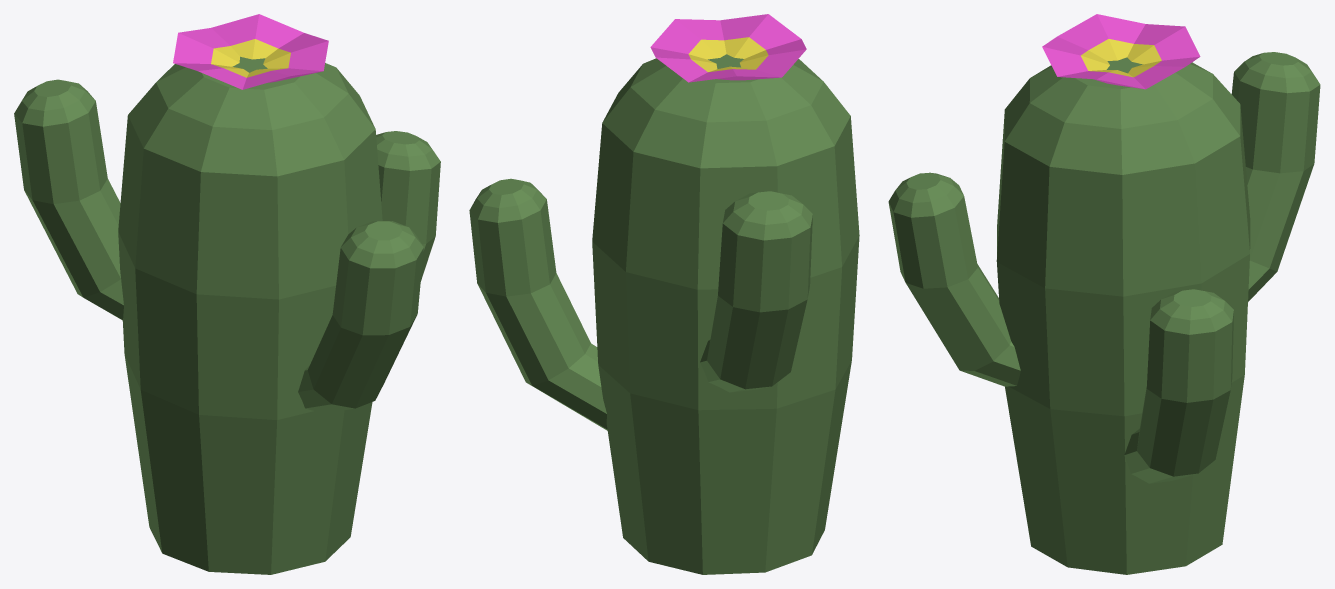
The model's file is cactus.fbx.
3 renders of one model, left to right at view 1: azimuth 30°, elevation 25°; view 2: azimuth 150°, elevation 25°; view 3: azimuth 270°, elevation 25°, orthographic.
Visible parts, largest first — view 1: Cactus; view 2: Cactus; view 3: Cactus.
Part boxes in pixels (x1,y1,x2,y2): Cactus: (14,14,440,574); Cactus: (469,14,859,574); Cactus: (888,14,1320,574).
Bounding box in the file's own units: 350 × 439 × 353.
